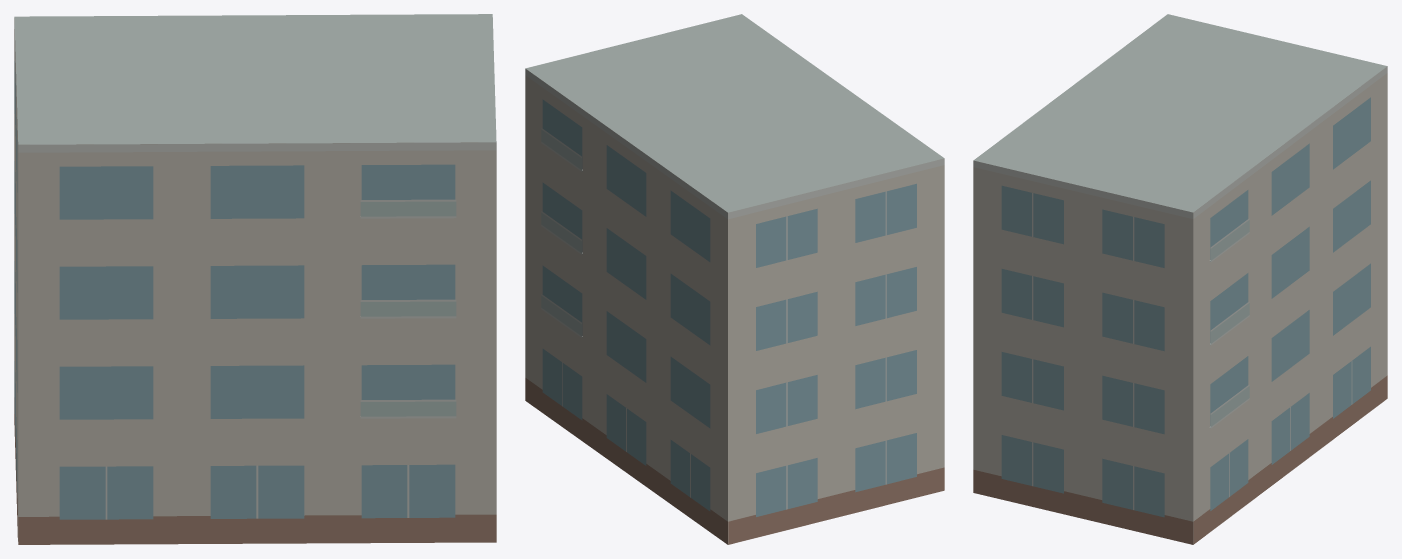
Rendered from residential-4de54448-3f9a-488b-925a-7962f4c544f5.glb.
3 renders of one model, left to right at view 1: azimuth 30°, elevation 25°; view 2: azimuth 150°, elevation 25°; view 3: azimuth 270°, elevation 25°, orthographic. The views are drawn at different scales.
Parts seen in each view (by area): view 1: residential-4de54448-3f9a-488b-925a-7962f4c544f5.tmp; view 2: residential-4de54448-3f9a-488b-925a-7962f4c544f5.tmp; view 3: residential-4de54448-3f9a-488b-925a-7962f4c544f5.tmp.
Part boxes in pixels (bbox=[...]): residential-4de54448-3f9a-488b-925a-7962f4c544f5.tmp: bbox=[14, 14, 496, 544]; residential-4de54448-3f9a-488b-925a-7962f4c544f5.tmp: bbox=[525, 14, 944, 544]; residential-4de54448-3f9a-488b-925a-7962f4c544f5.tmp: bbox=[973, 14, 1387, 544].
Size of the model in its own units: 15.64 by 12.2 by 13.79.
